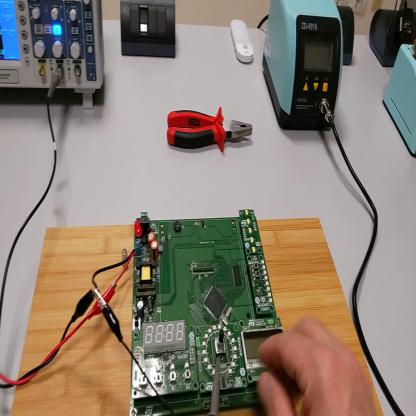hand: (258, 313, 381, 416)
low voltage board: (91, 209, 291, 416)
oscilloscope: (1, 1, 107, 113)
oscilloscope probe tip: (209, 352, 222, 413)
pliers: (168, 106, 256, 156)
socket: (370, 5, 415, 66), (338, 2, 355, 67)
welder base: (383, 38, 416, 159)
welder station: (263, 2, 342, 134)
working area: (14, 212, 381, 415)
